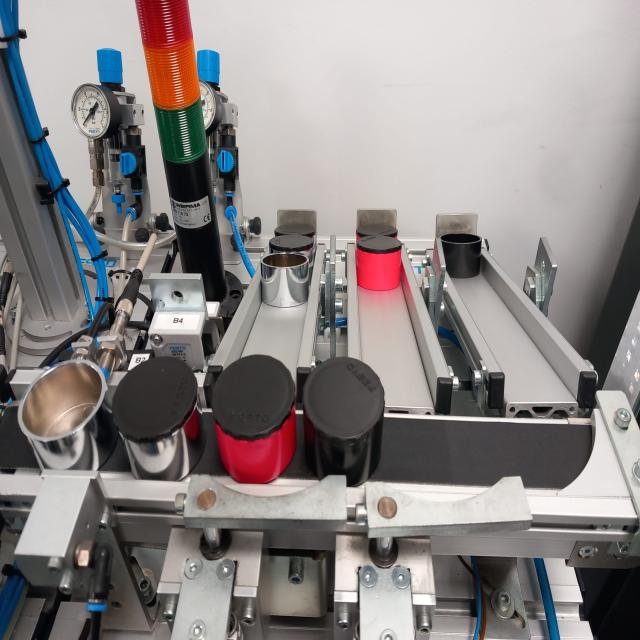NoLid: (14, 361, 108, 475), (260, 247, 310, 305), (442, 228, 481, 276)
Workpiece: (207, 358, 303, 483), (114, 363, 207, 478), (302, 358, 383, 483), (356, 237, 401, 287), (272, 217, 320, 240), (268, 233, 313, 256), (354, 222, 402, 238)
